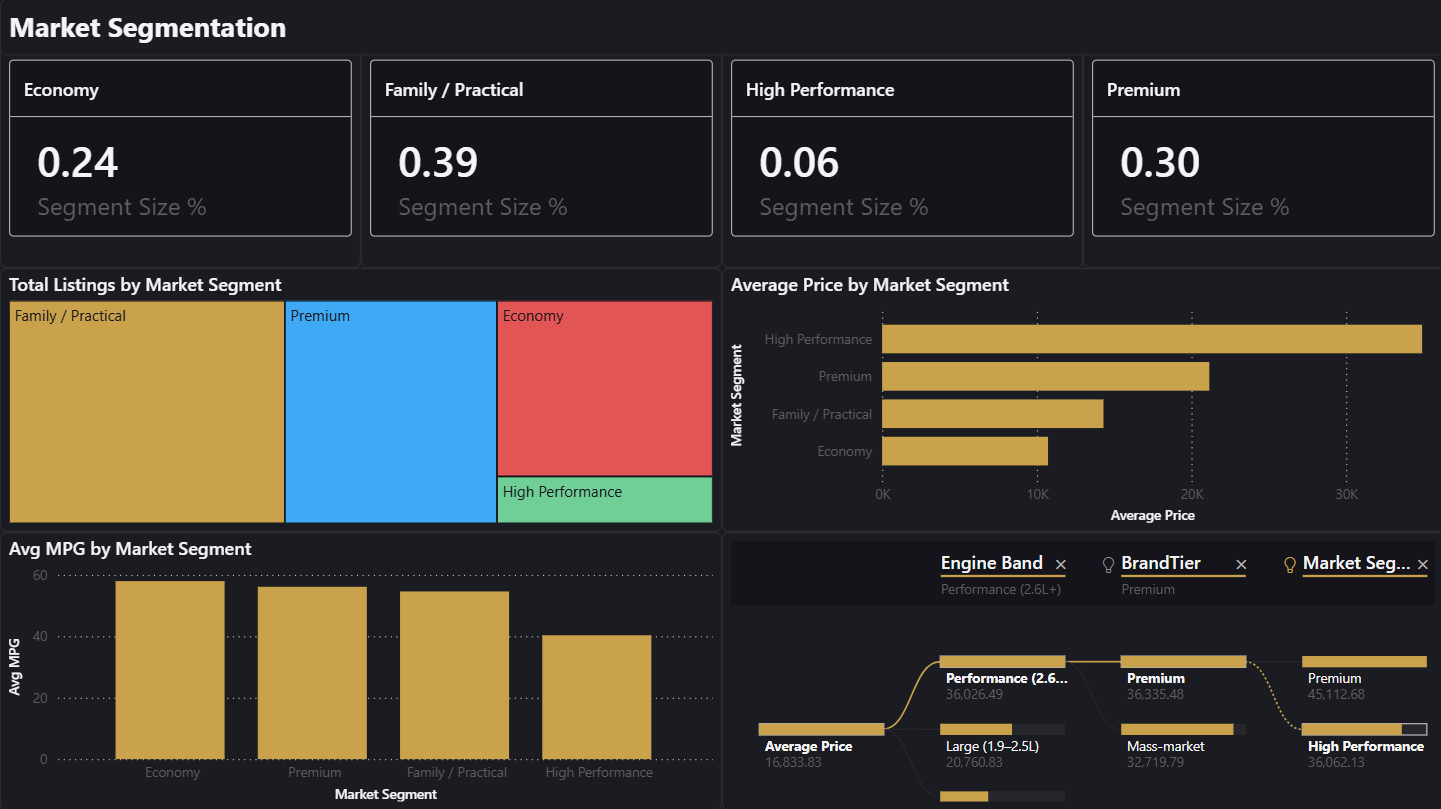

Layout of this report page (visuals, bound fields, positions):
{"tool":"powerbi","page":{"name":"Page 5","canvas":[1280,720],"ordinal":4},"visuals":[{"type":"cardVisual","fields":{"Data":["Measure_s.Segment Size %"],"Rows":["Fact_Cars.Market Segment"]},"box":[0,25.3,320,213],"z":0},{"type":"treemap","fields":{"Group":["Fact_Cars.Market Segment"],"Values":["Measure_s.Total Listings"]},"box":[0,238.3,640,234.4],"z":4},{"type":"cardVisual","fields":{"Data":["Measure_s.Segment Size %"],"Rows":["Fact_Cars.Market Segment"]},"box":[320,25.3,320,213],"z":5},{"type":"cardVisual","fields":{"Data":["Measure_s.Segment Size %"],"Rows":["Fact_Cars.Market Segment"]},"box":[640,25.3,320,213],"z":6},{"type":"cardVisual","fields":{"Data":["Measure_s.Segment Size %"],"Rows":["Fact_Cars.Market Segment"]},"box":[960,25.3,320,213],"z":7},{"type":"clusteredBarChart","fields":{"Category":["Fact_Cars.Market Segment"],"Y":["Measure_s.Average Price"]},"box":[640,238.3,640,234.4],"z":8},{"type":"clusteredColumnChart","fields":{"Category":["Fact_Cars.Market Segment"],"Y":["Measure_s.Avg MPG"]},"box":[0,472.6,640.2,247.4],"z":9},{"type":"decompositionTreeVisual","fields":{"Analyze":["Measure_s.Average Price"],"ExplainBy":["Fact_Cars.Engine Band","Fact_Cars.BrandTier","Fact_Cars.Market Segment"]},"box":[640.2,472.6,640.2,247.4],"z":10},{"type":"textbox","box":[0,0,1280,49.6],"z":11}]}

Visuals, with their boxes in screenshot pixels (x1, y1, x2, y2), scaled from the page's 1280x720 canvas onto the 1441x809 screenshot:
cardVisual - Measure_s.Segment Size % x Fact_Cars.Market Segment: [0, 28, 360, 268]
treemap - Fact_Cars.Market Segment x Measure_s.Total Listings: [0, 268, 720, 531]
cardVisual - Measure_s.Segment Size % x Fact_Cars.Market Segment: [360, 28, 720, 268]
cardVisual - Measure_s.Segment Size % x Fact_Cars.Market Segment: [720, 28, 1081, 268]
cardVisual - Measure_s.Segment Size % x Fact_Cars.Market Segment: [1081, 28, 1440, 268]
clusteredBarChart - Fact_Cars.Market Segment x Measure_s.Average Price: [720, 268, 1440, 531]
clusteredColumnChart - Fact_Cars.Market Segment x Measure_s.Avg MPG: [0, 531, 721, 808]
decompositionTreeVisual - Measure_s.Average Price x Fact_Cars.Engine Band: [721, 531, 1440, 808]
textbox: [0, 0, 1440, 56]
